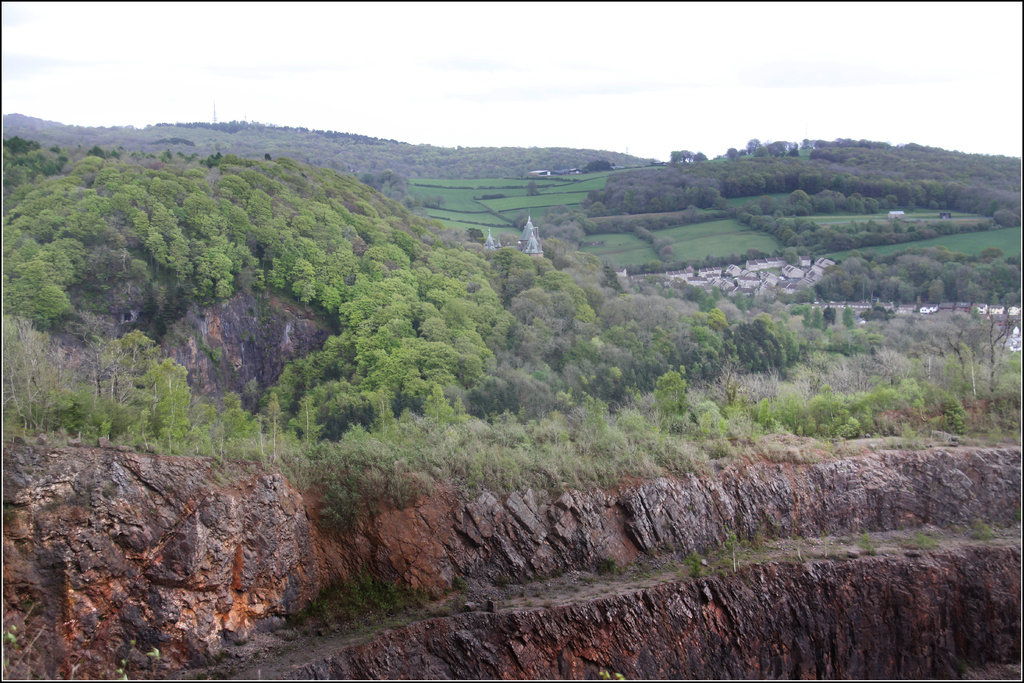Tree: (0, 150, 1023, 467), (943, 304, 1017, 420), (649, 362, 686, 438)
